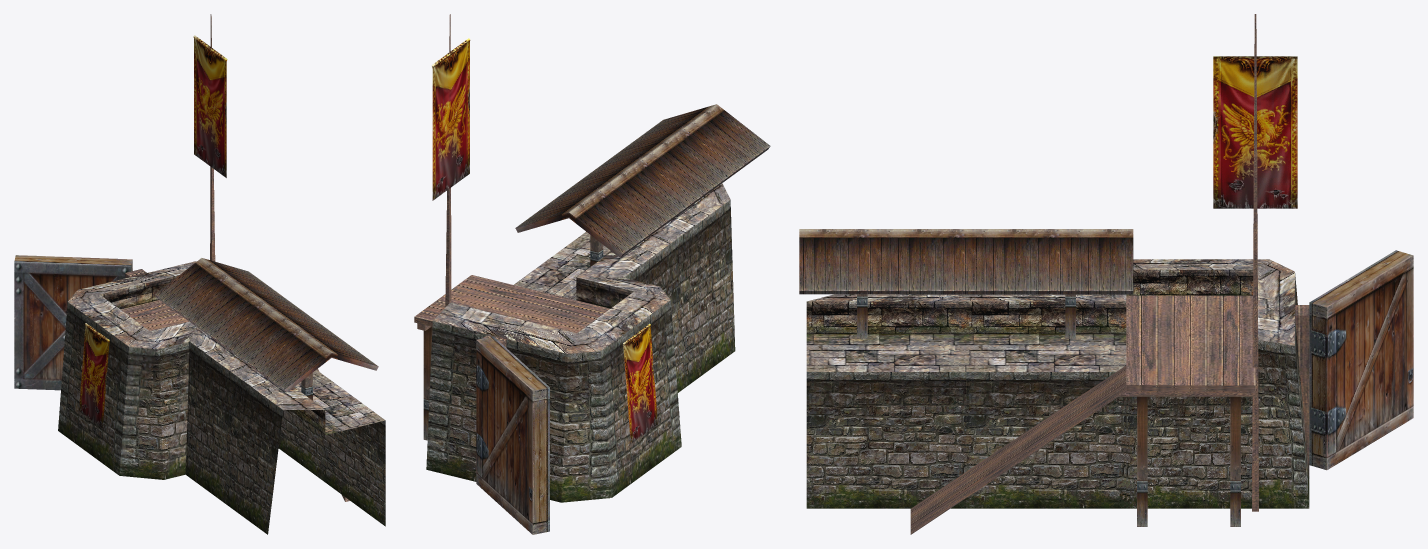
3 views of the same model, side by side, from view 1: azimuth 30°, elevation 25°; view 2: azimuth 150°, elevation 25°; view 3: azimuth 270°, elevation 25° (orthographic). The views are drawn at different scales.
Visible parts, largest first — view 1: tn3_v2; view 2: tn3_v2; view 3: tn3_v2.
Part boxes in pixels (bbox=[...]): tn3_v2: bbox=[14, 14, 385, 534]; tn3_v2: bbox=[414, 14, 770, 534]; tn3_v2: bbox=[799, 14, 1413, 534].
Size of the model in its own units: 7.4 by 15.4 by 17.1.
Materials: 10 (10 with a texture image).
